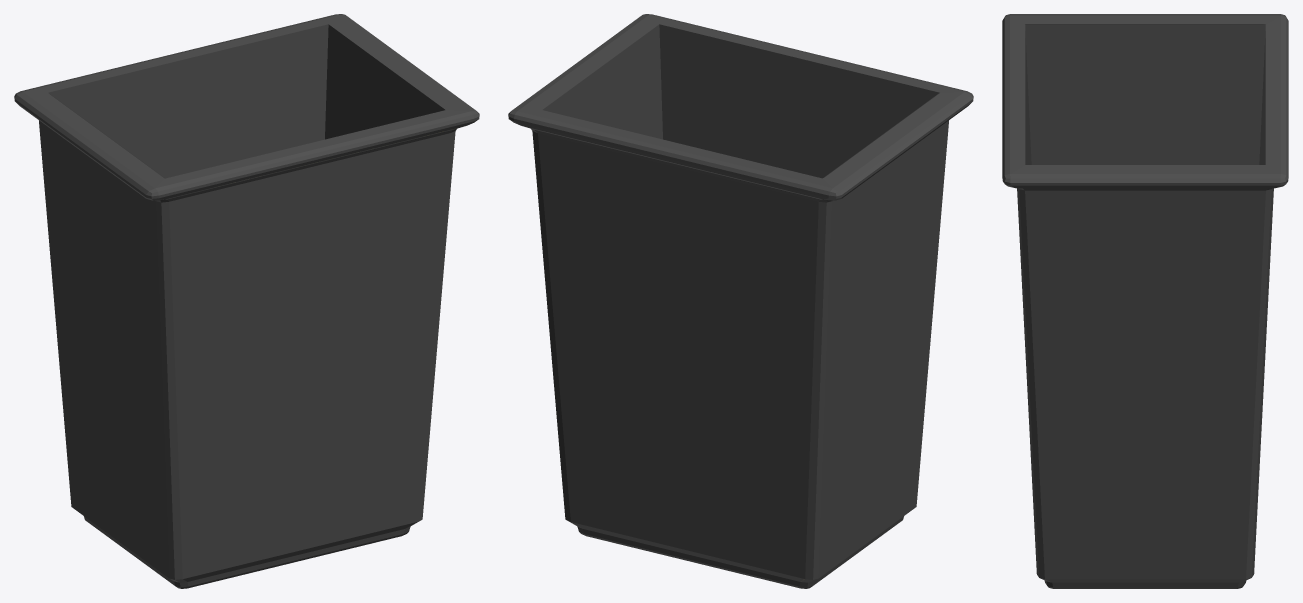
File: MC_Trashcan.fbx
3 views of the same model, side by side, from view 1: azimuth 30°, elevation 25°; view 2: azimuth 150°, elevation 25°; view 3: azimuth 270°, elevation 25° (orthographic). The views are drawn at different scales.
Visible parts, largest first — view 1: Cube; view 2: Cube; view 3: Cube.
Part boxes in pixels (<box>): Cube: <box>14,14,479,588</box>; Cube: <box>508,14,973,588</box>; Cube: <box>1002,14,1288,588</box>.
Bounding box in the file's own units: 582 × 713 × 421.
1 material, 1 textured.
